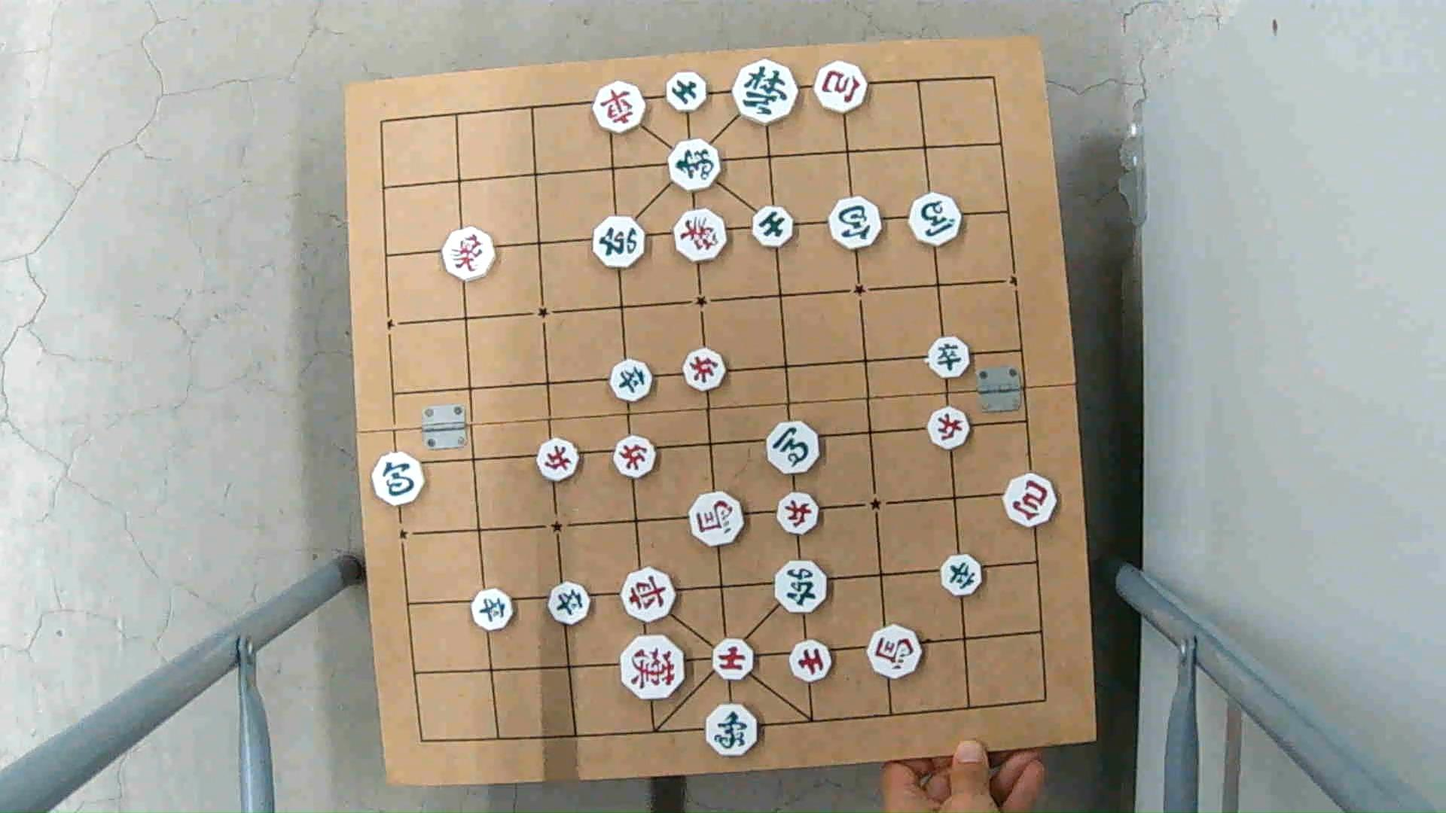cha_green: (773, 559, 830, 609), (594, 218, 649, 267)
cha_red: (618, 570, 679, 620), (594, 83, 650, 131)
jol_green: (545, 582, 593, 626), (471, 586, 514, 632), (926, 337, 972, 379), (609, 360, 655, 399), (940, 557, 986, 595)
jol_red: (532, 440, 581, 480), (613, 437, 660, 477), (776, 493, 822, 532), (925, 408, 972, 446), (682, 349, 726, 388)
ma_green: (766, 423, 824, 473), (908, 194, 965, 242)
ma_red: (688, 494, 749, 544), (864, 629, 921, 678)
po_green: (368, 455, 428, 505), (827, 197, 882, 245)
po_red: (1002, 475, 1060, 525), (816, 59, 867, 114)
sa_green: (751, 207, 797, 245), (662, 74, 708, 111)
sa_red: (710, 640, 758, 680), (788, 640, 834, 679)
sang_green: (665, 140, 722, 191), (705, 705, 763, 754)
sang_red: (673, 209, 730, 259), (444, 229, 499, 277)
wang_green: (729, 60, 799, 119)
wang_red: (619, 637, 686, 700)
